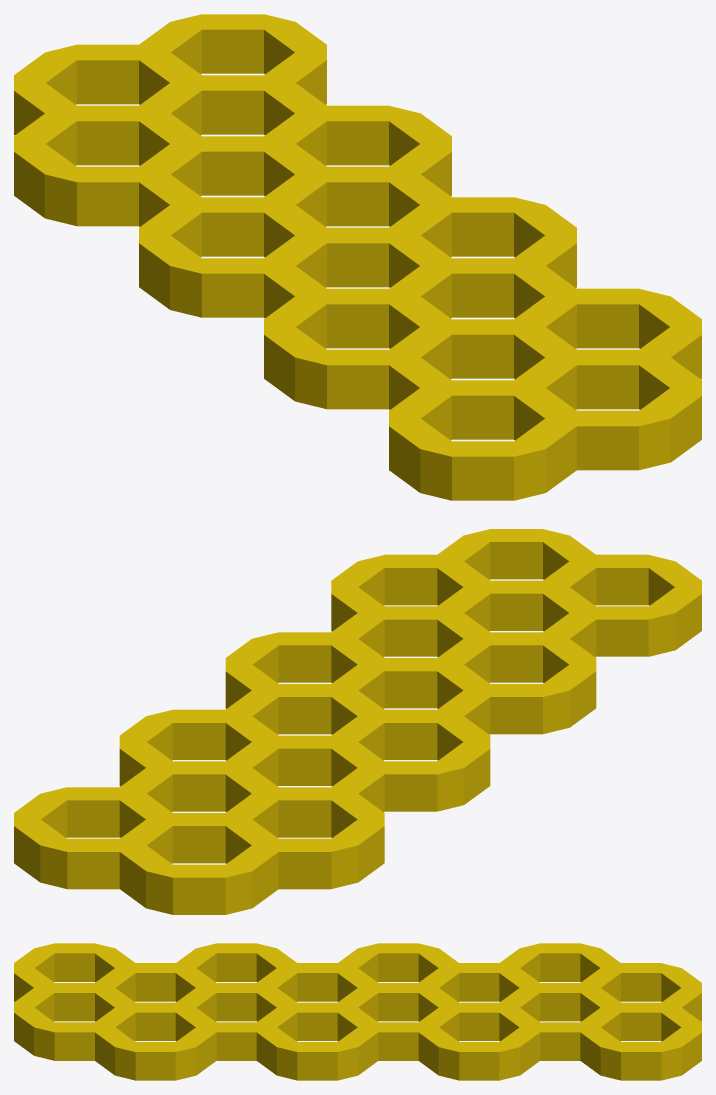
File: Panales.fbx
The picture shows the model from 3 angles, top to bottom: view 1: azimuth 30°, elevation 25°; view 2: azimuth 150°, elevation 25°; view 3: azimuth 270°, elevation 25°; orthographic projection. The views are drawn at different scales.
Parts seen in each view (by area): view 1: HoneyComb; view 2: HoneyComb; view 3: HoneyComb.
Part boxes in pixels (x1,y1,x2,y2): HoneyComb: [14, 14, 701, 500]; HoneyComb: [14, 529, 701, 914]; HoneyComb: [14, 943, 701, 1080].
Size of the model in its own units: 239 by 29.14 by 638.
